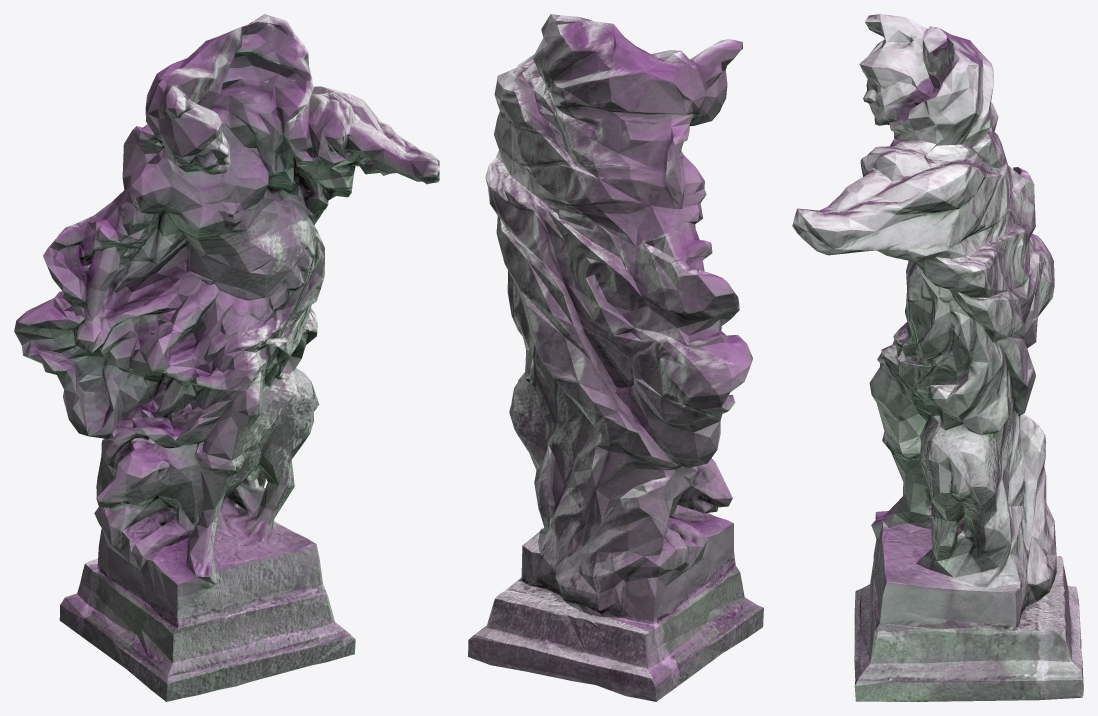
Rendered from hnev2.glb.
3 renders of one model, left to right at view 1: azimuth 30°, elevation 25°; view 2: azimuth 150°, elevation 25°; view 3: azimuth 270°, elevation 25°, orthographic. The views are drawn at different scales.
Visible parts, largest first — view 1: Hnev; view 2: Hnev; view 3: Hnev.
Part boxes in pixels (box(x1,y1,x2,y2)): Hnev: box(14, 14, 439, 701); Hnev: box(468, 14, 763, 701); Hnev: box(792, 14, 1083, 701).
Bounding box in the file's own units: 1.52 × 2.75 × 1.15.
Materials: 1 (1 with a texture image).
